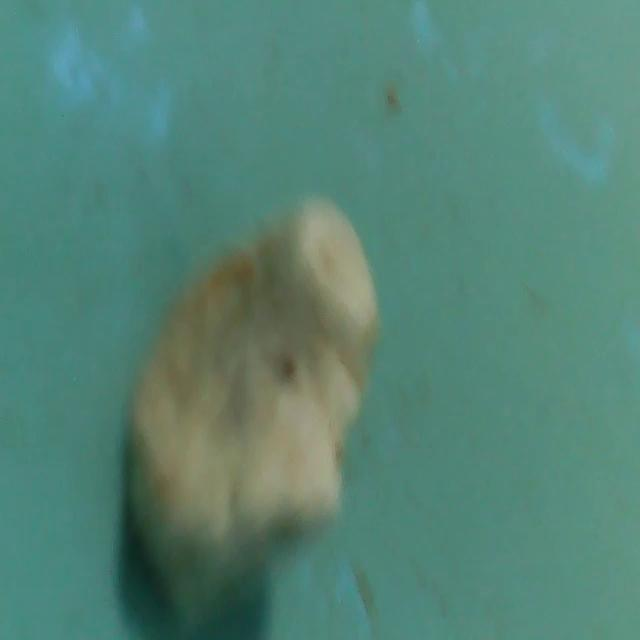rock: (120, 197, 379, 622)
